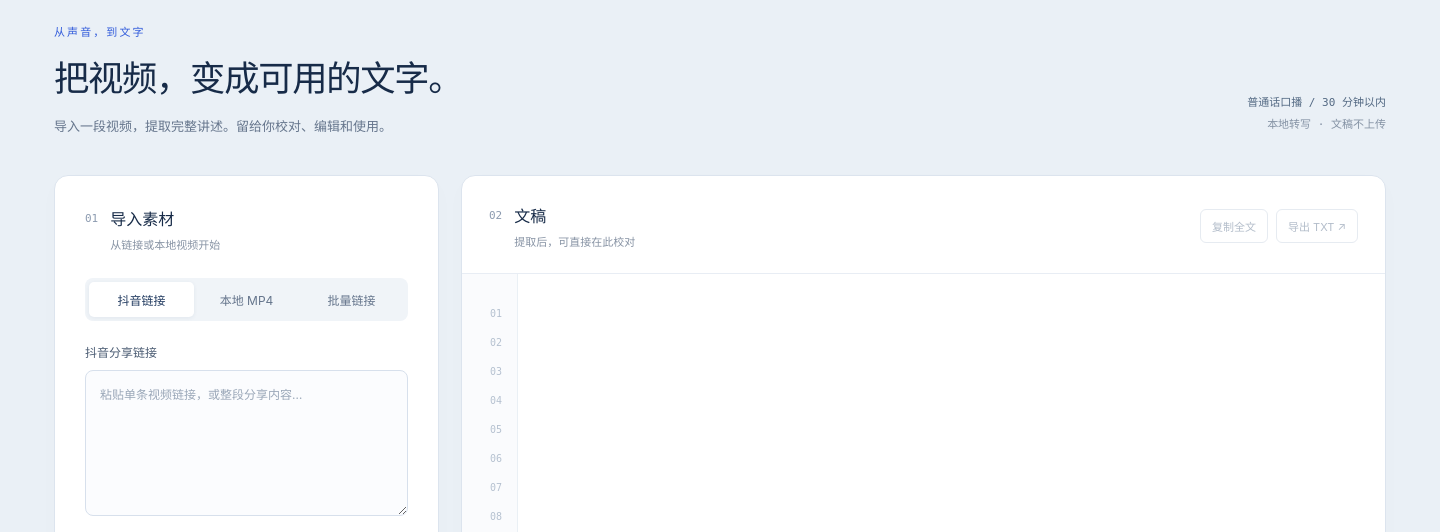
Test: clears the previous duplicate choice when changing the single link or source
Type "https://v.douyin.com/a/" into the text box labelled "抖音分享链接" at (246, 443), box left=85, top=370, right=408, bottom=516
(page scrolled)
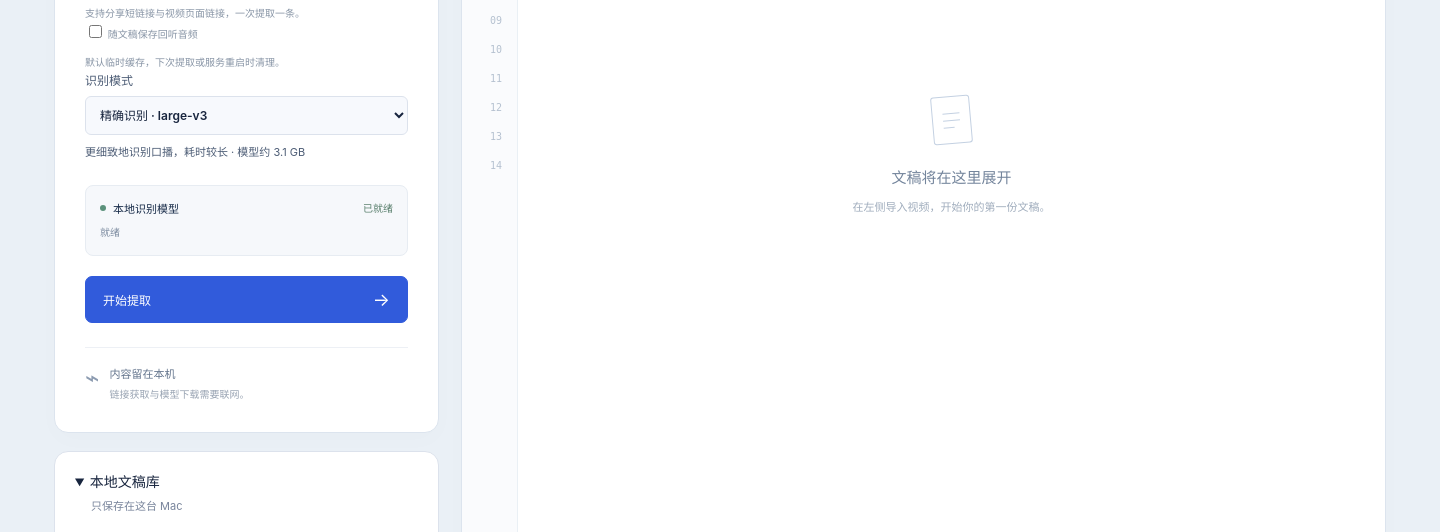
Click the button "开始提取 →" at (127, 301), box left=85, top=276, right=408, bottom=323
(page scrolled)
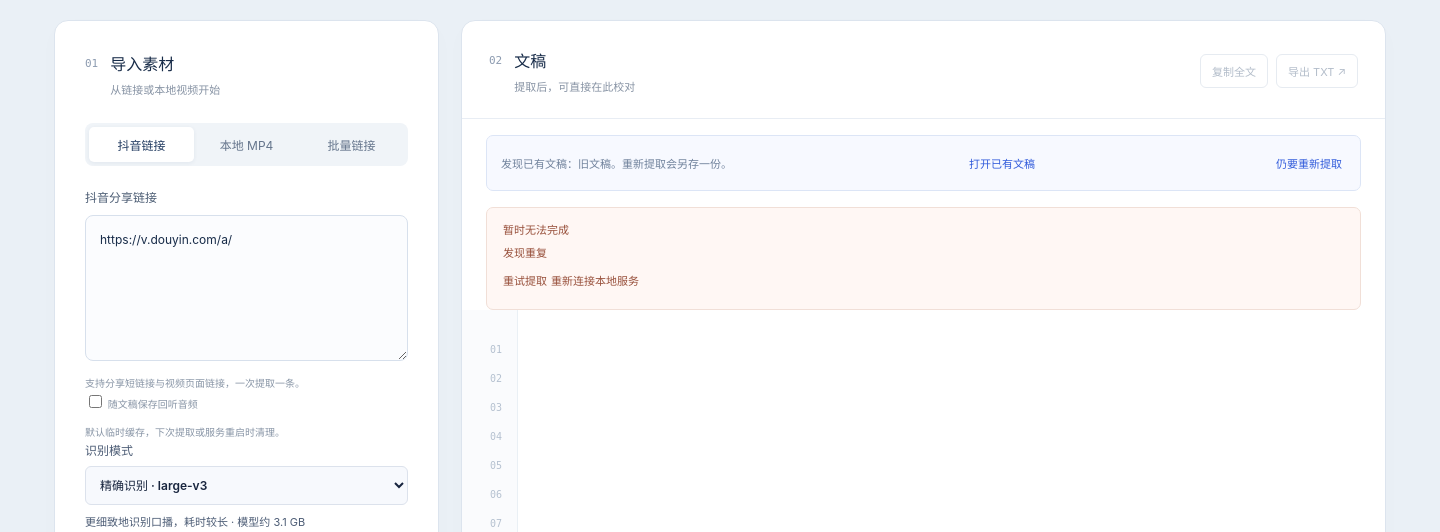
Expected: the button "仍要重新提取" is shown, left=1272, top=150, right=1346, bottom=176
Type "b" into the text box labelled "抖音分享链接" at (246, 288), box left=85, top=215, right=408, bottom=361
(page scrolled)
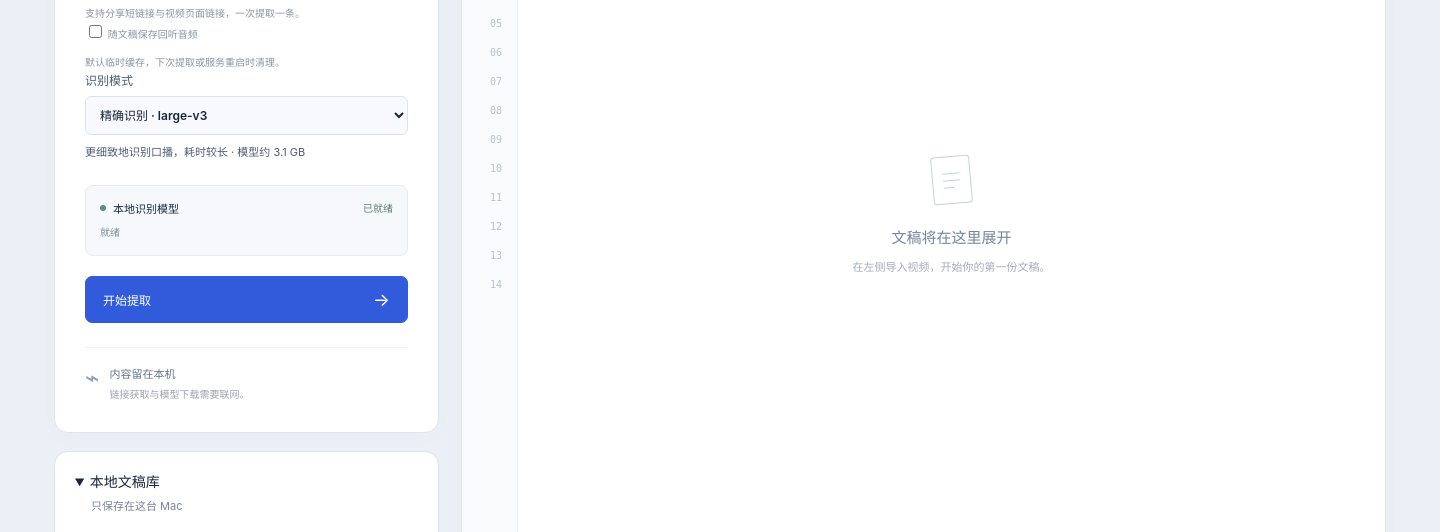
Expected: the button "仍要重新提取" is gone
Click the button "开始提取 →" at (127, 301), box left=85, top=276, right=408, bottom=323
(page scrolled)
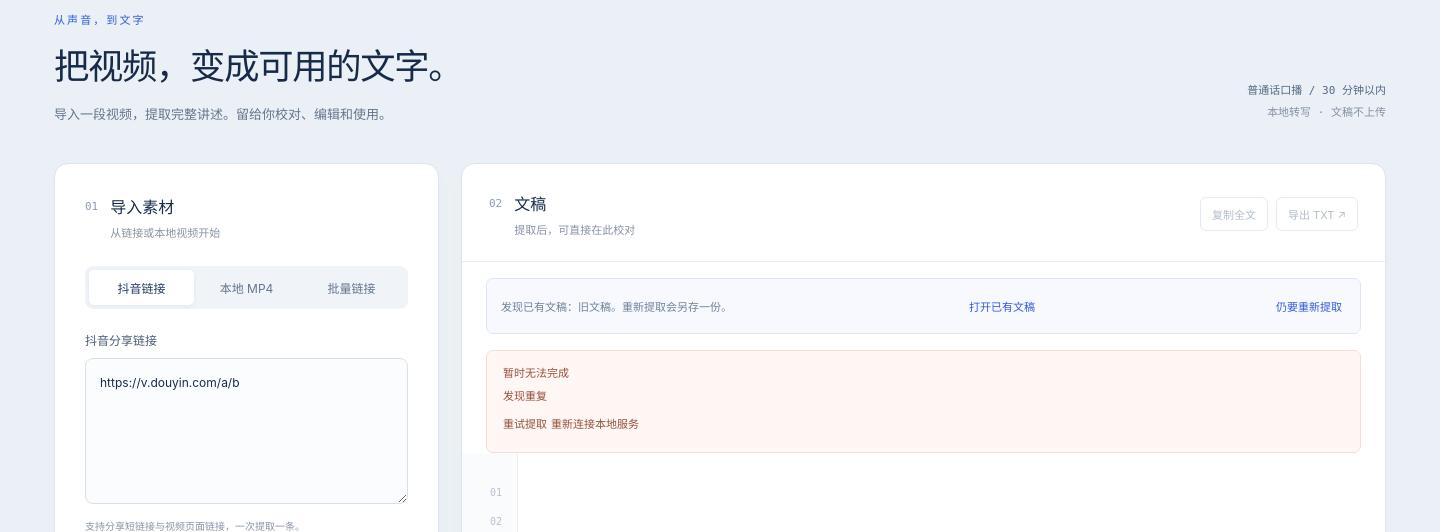
Expected: the button "仍要重新提取" is shown, left=1272, top=293, right=1346, bottom=319
Click the tab "本地 MP4" at (246, 288), box left=194, top=270, right=299, bottom=305
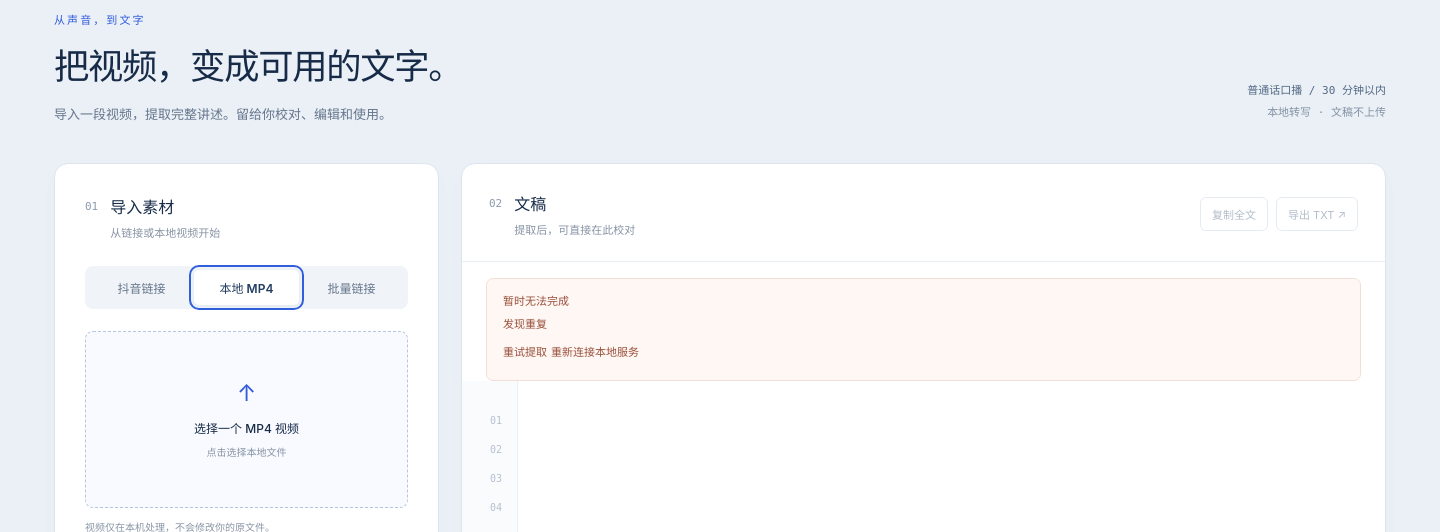
Expected: the button "仍要重新提取" is gone
